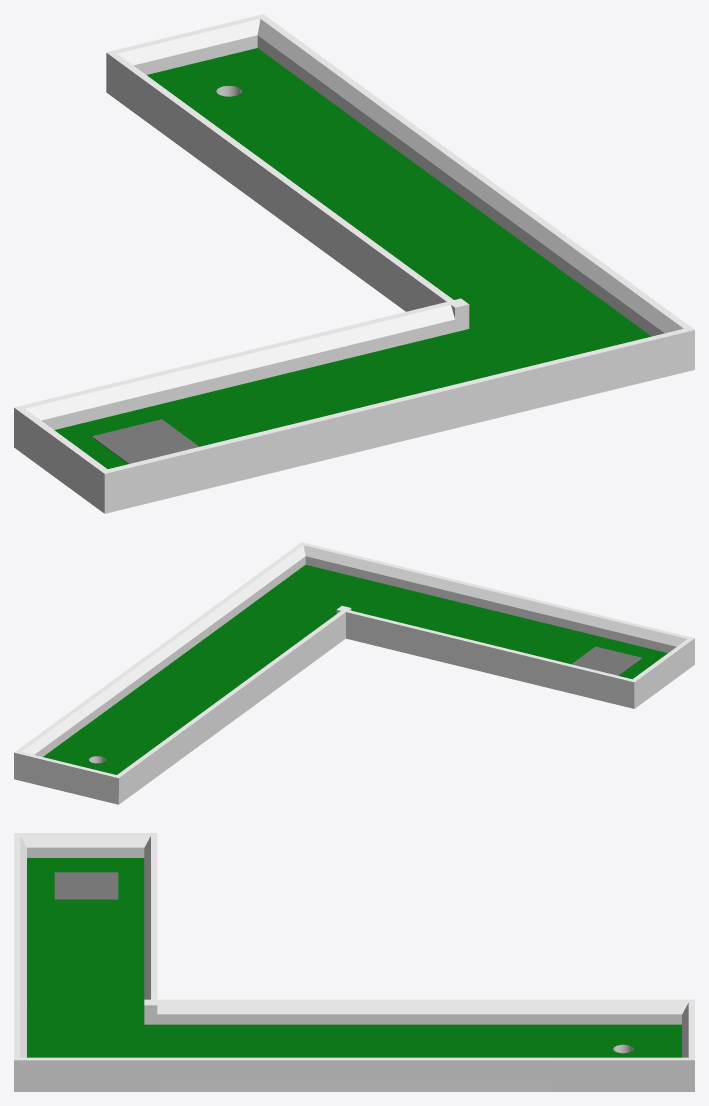
Rendered from Level2Model.obj.
3 renders of one model, top to bottom at view 1: azimuth 30°, elevation 25°; view 2: azimuth 150°, elevation 25°; view 3: azimuth 270°, elevation 25°, orthographic. The views are drawn at different scales.
Visible parts, largest first — view 1: Level2:pCube161; view 2: Level2:pCube161; view 3: Level2:pCube161.
Part boxes in pixels (<box>): Level2:pCube161: <box>14,14,694,513</box>; Level2:pCube161: <box>14,542,694,804</box>; Level2:pCube161: <box>14,833,694,1091</box>.
Bounding box in the file's own units: 8.41 × 0.5445 × 10.65.
Materials: 3 (2 with a texture image).
